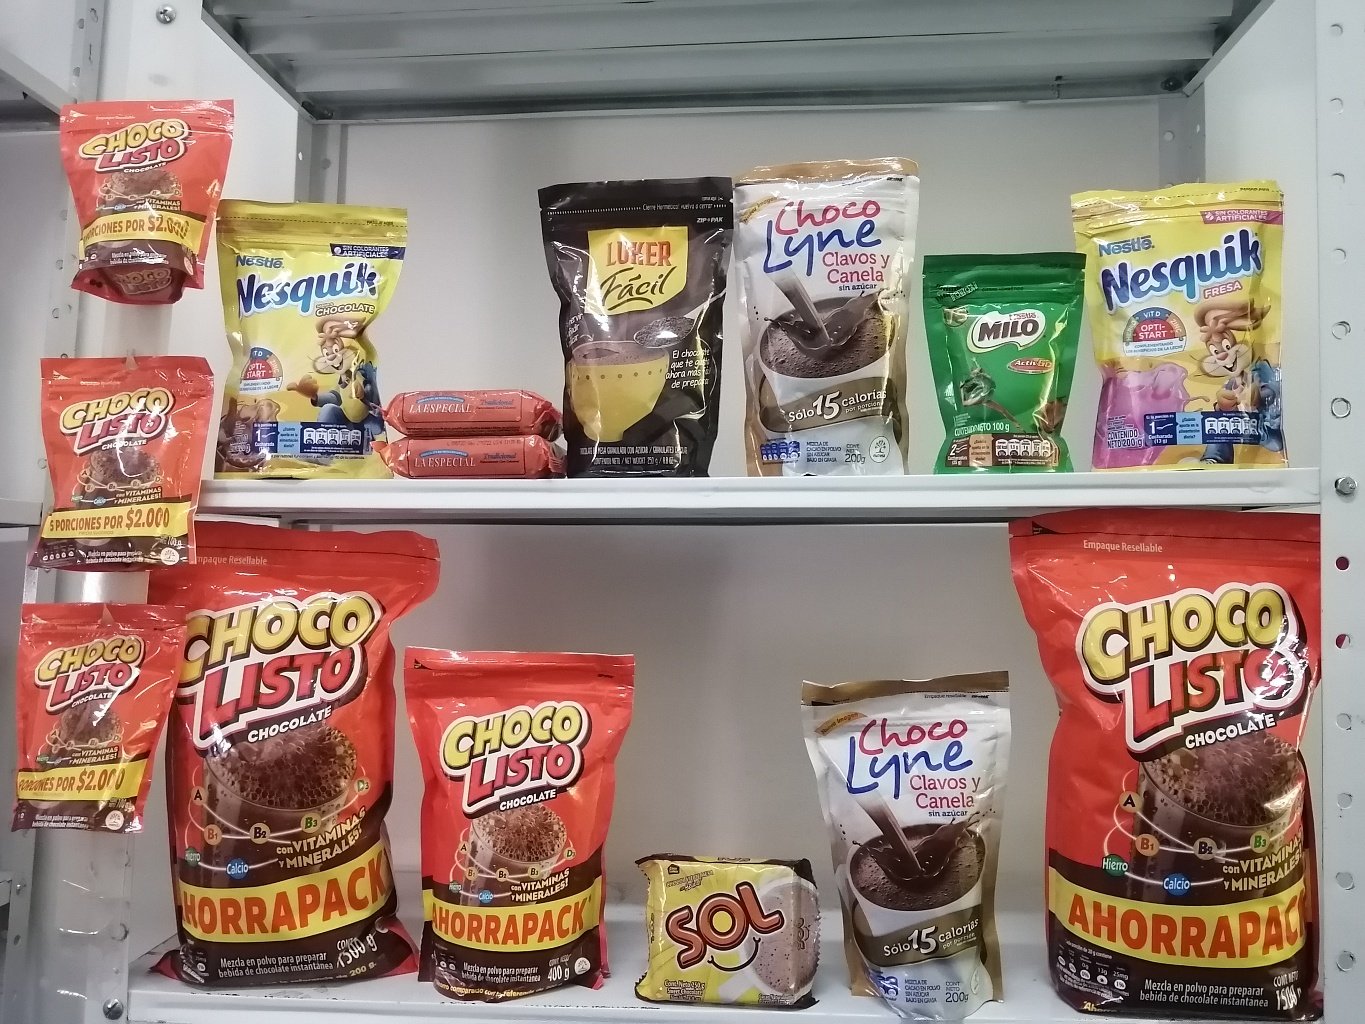COL0170103DYP1,500: (999, 507, 1343, 1016)
COL0170103DYP10000: (40, 93, 255, 316)
COL0170103DYP40000: (381, 627, 656, 1010)
COL0170203DYP10000: (918, 245, 1089, 482)
COL0170303DYP20000: (197, 190, 418, 490)
COL0170305DYP20000: (1051, 177, 1311, 473)
